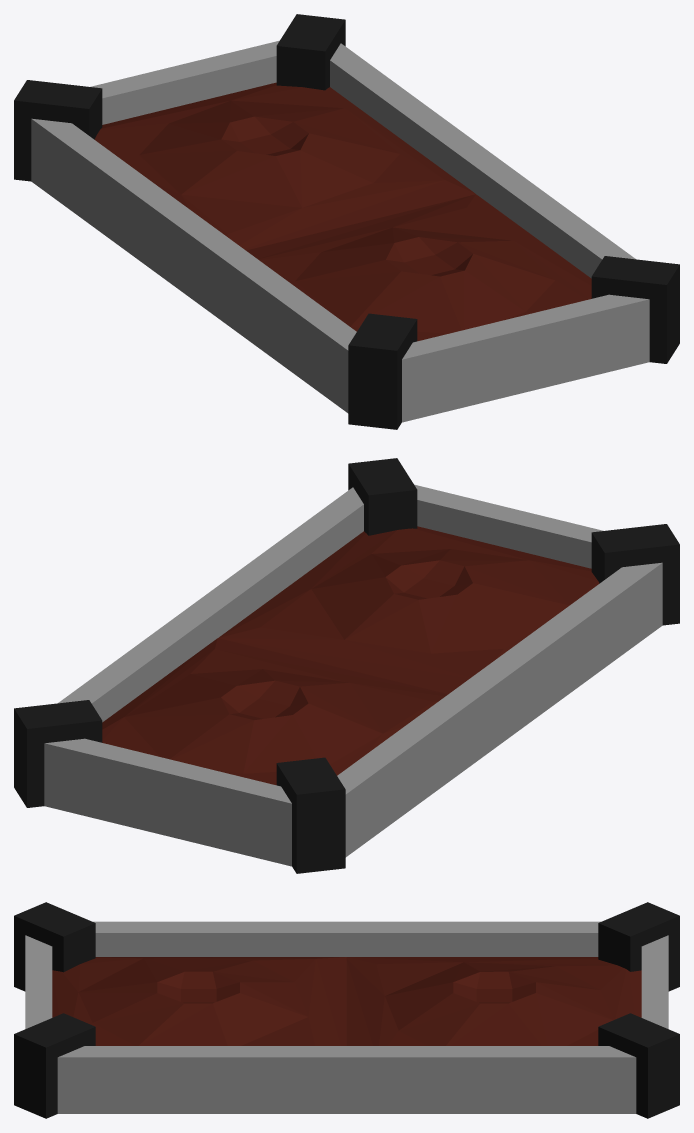
The model's file is obj_plot_2.FBX.
The picture shows the model from 3 angles, top to bottom: view 1: azimuth 30°, elevation 25°; view 2: azimuth 150°, elevation 25°; view 3: azimuth 270°, elevation 25°; orthographic projection. The views are drawn at different scales.
Visible parts, largest first — view 1: obj_plot_2, obj_plot_2_soil_2, obj_plot_2_soil_1; view 2: obj_plot_2, obj_plot_2_soil_1, obj_plot_2_soil_2; view 3: obj_plot_2, obj_plot_2_soil_2, obj_plot_2_soil_1.
Boxes of the visible parts, box(x1,y1,x2,y2) form: obj_plot_2: box(14, 14, 679, 429); obj_plot_2_soil_2: box(94, 82, 475, 250); obj_plot_2_soil_1: box(246, 194, 591, 341); obj_plot_2: box(14, 458, 679, 873); obj_plot_2_soil_1: box(218, 526, 599, 693); obj_plot_2_soil_2: box(102, 638, 448, 785); obj_plot_2: box(14, 902, 679, 1118); obj_plot_2_soil_2: box(346, 957, 641, 1045); obj_plot_2_soil_1: box(52, 957, 346, 1045).
Bounding box in the file's own units: 10.71 × 2.44 × 20.71.
